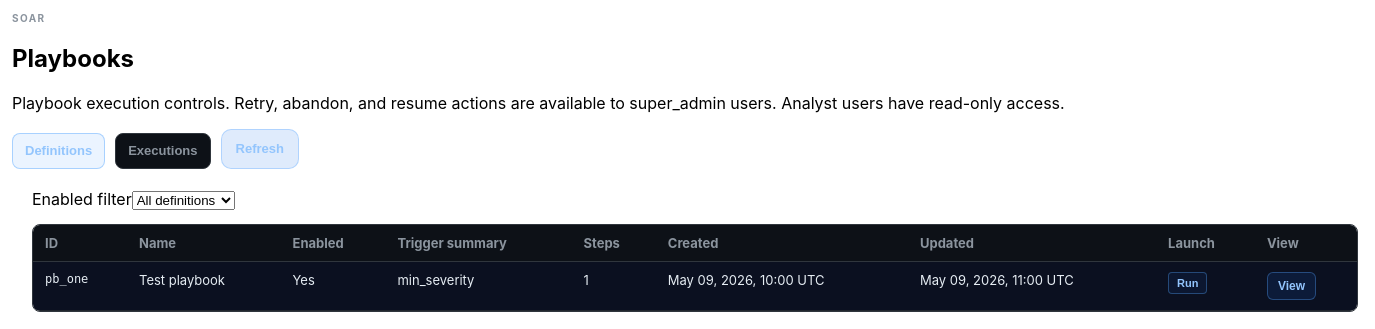
Test: execution empty state when no items
Expected: the text "pb_one" is shown, [33,261,127,310]
Click the button "Executions". click: (163,151)
box: [115,133,211,169]
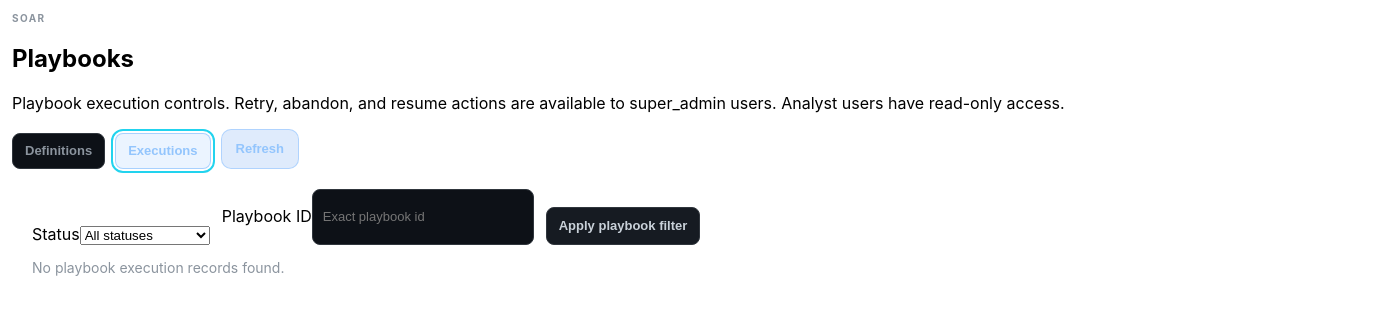
Now the text "No playbook execution records found." is shown, box [32,259,284,276]
